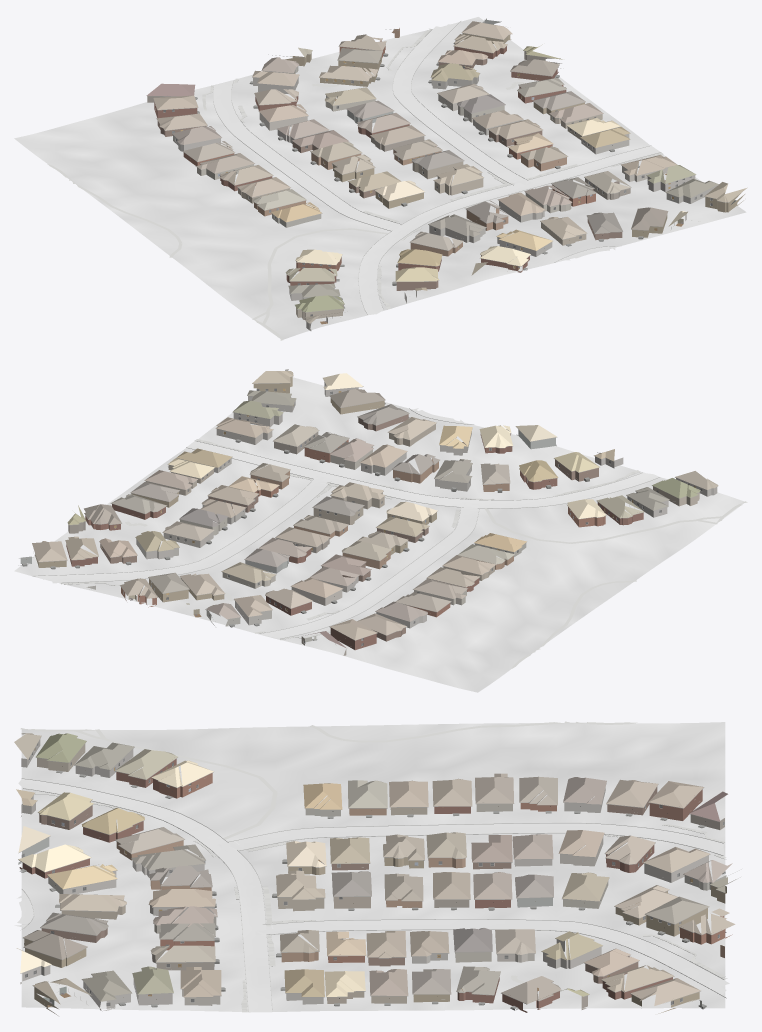
The picture shows the model from 3 angles, top to bottom: view 1: azimuth 30°, elevation 25°; view 2: azimuth 150°, elevation 25°; view 3: azimuth 270°, elevation 25°; orthographic projection. The views are drawn at different scales.
Visible parts, largest first — view 1: ground, roof, concrete, wall, detail, wall_stone, wall_stucco, walk, curb; view 2: ground, roof, wall, concrete, detail, wall_stucco, wall_stone, walk, curb; view 3: ground, roof, concrete, wall, detail, wall_stone, wall_stucco, walk, curb, glass.
Part boxes in pixels (x1,y1,x2,y2): ground: (14,17,746,339); roof: (147,21,747,323); concrete: (213,23,660,314); wall: (147,28,744,290); detail: (146,18,740,323); wall_stone: (173,76,716,330); wall_stucco: (197,19,667,319); walk: (47,28,662,340); curb: (207,21,663,314); ground: (14,377,744,692); roof: (32,371,718,647); wall: (34,377,643,655); concrete: (37,408,658,638); detail: (19,376,717,646); wall_stucco: (18,429,699,626); wall_stone: (136,369,717,628); walk: (61,439,747,668); curb: (32,408,659,639); ground: (21,722,725,1011); roof: (14,733,735,1005); concrete: (14,779,729,1012); wall: (19,759,732,1015); detail: (18,736,741,1010); wall_stone: (20,739,708,1011); wall_stucco: (18,744,740,1005); walk: (20,721,727,1012); curb: (20,778,726,1011); glass: (21,743,724,1006).
Bounding box in the file's own units: 260 × 16.17 × 261.
